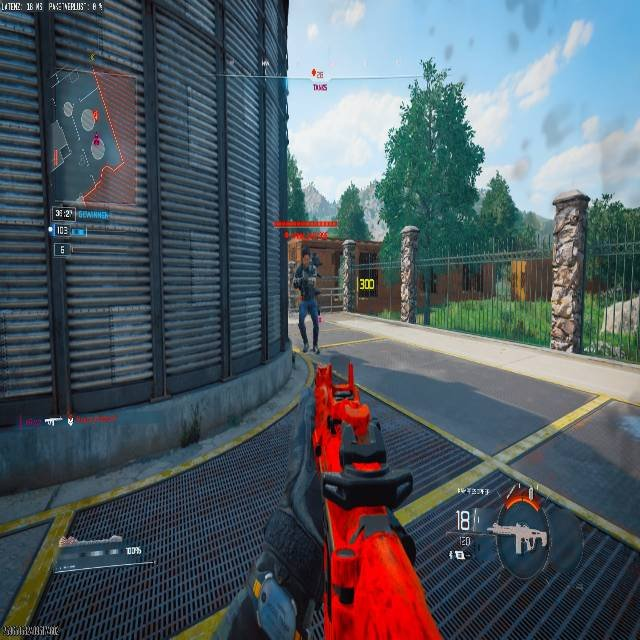head: (299, 245, 321, 272), (302, 242, 319, 262), (301, 245, 312, 258)
player: (293, 244, 322, 354)
